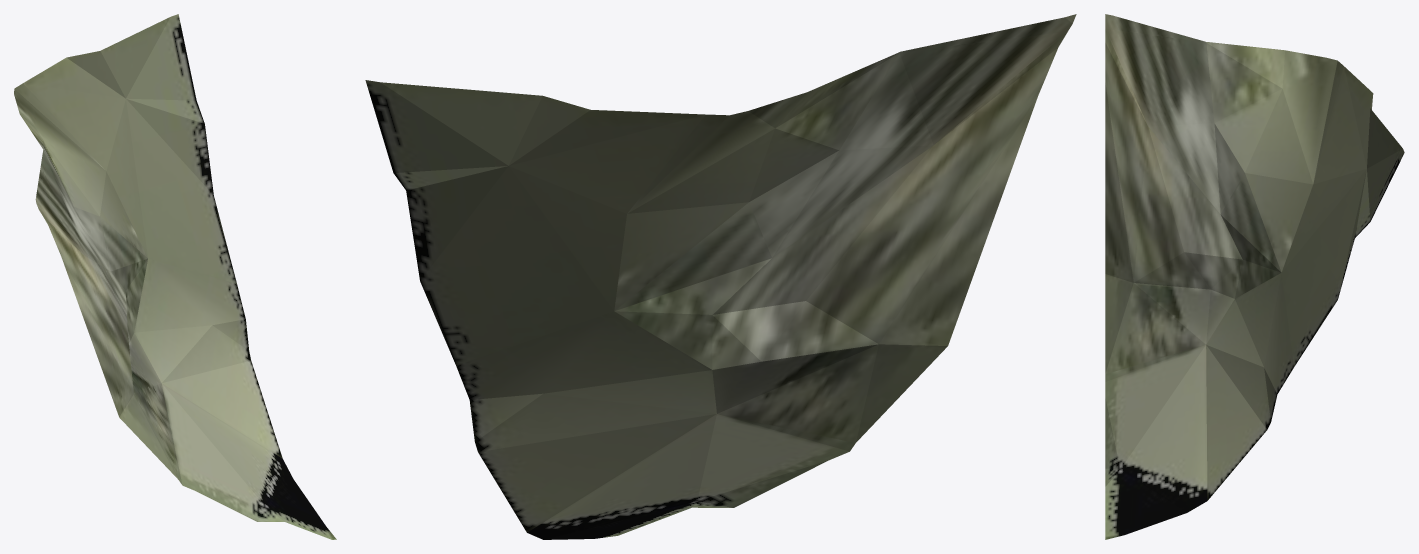
3 views of the same model, side by side, from view 1: azimuth 30°, elevation 25°; view 2: azimuth 150°, elevation 25°; view 3: azimuth 270°, elevation 25° (orthographic). The views are drawn at different scales.
Size of the model in its own units: 2.55 by 3.32 by 2.32.
1 material, 1 textured.
